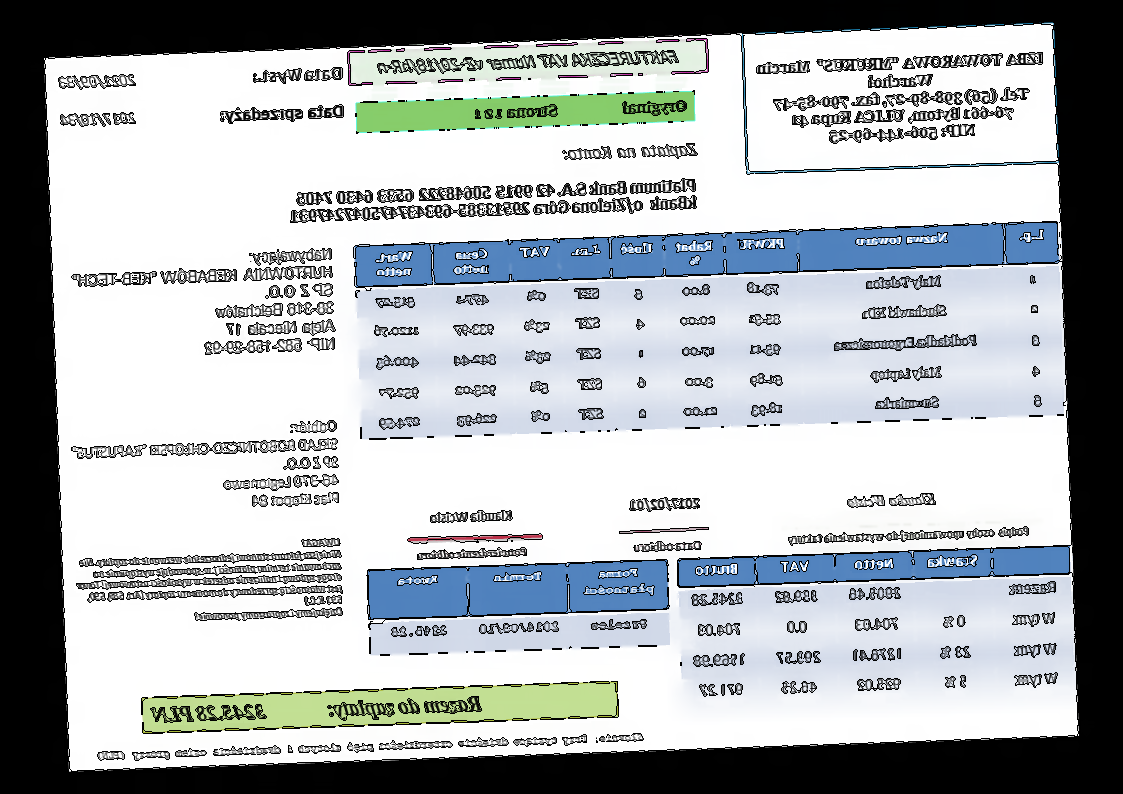Table: (353, 219, 1066, 442), (677, 544, 1077, 712), (365, 557, 672, 658)
TextBox: (68, 245, 337, 362), (755, 48, 1049, 150), (68, 417, 342, 518), (72, 534, 346, 629), (288, 176, 700, 225), (94, 730, 647, 763), (149, 692, 485, 729), (374, 46, 682, 78), (472, 94, 690, 124), (785, 524, 1031, 548), (560, 138, 700, 165), (217, 100, 348, 127), (250, 63, 344, 87), (845, 488, 940, 510), (414, 544, 530, 562), (57, 70, 139, 93), (58, 107, 139, 129), (429, 508, 516, 526), (627, 494, 704, 514), (634, 538, 704, 554)
